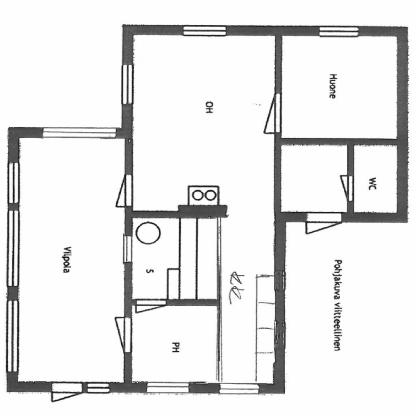door: (304, 211, 341, 237), (114, 316, 139, 354), (263, 92, 285, 133), (114, 172, 136, 208), (337, 173, 359, 202), (52, 383, 82, 402), (138, 300, 167, 315)
window: (8, 210, 19, 283), (7, 299, 17, 372), (43, 128, 113, 138), (221, 380, 259, 396), (183, 24, 226, 37), (149, 382, 189, 394), (8, 163, 18, 205), (319, 26, 357, 36), (123, 66, 133, 103), (124, 236, 132, 263), (88, 385, 110, 393)
zone: (132, 35, 274, 383), (18, 138, 122, 380), (282, 35, 397, 138), (132, 218, 219, 298), (130, 306, 219, 382), (280, 144, 347, 213), (354, 143, 396, 214)
